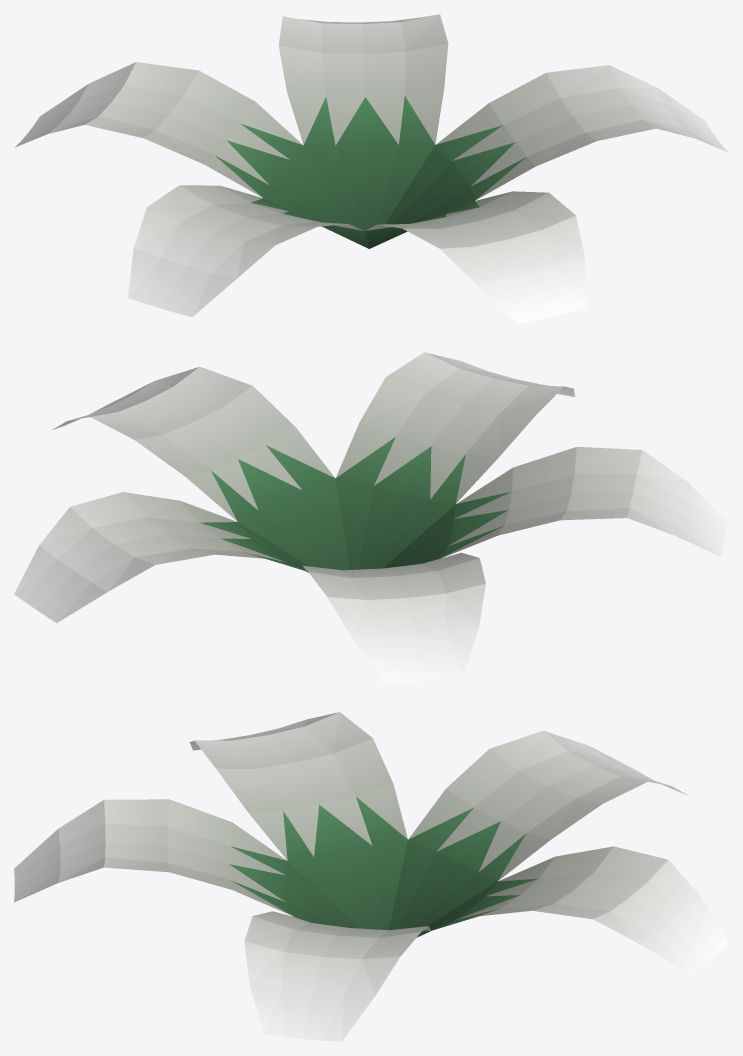
File: SnowBush.fbx
The picture shows the model from 3 angles, top to bottom: view 1: azimuth 30°, elevation 25°; view 2: azimuth 150°, elevation 25°; view 3: azimuth 270°, elevation 25°; orthographic projection. The views are drawn at different scales.
Parts seen in each view (by area): view 1: SnowBush; view 2: SnowBush; view 3: SnowBush.
Boxes of the visible parts, box(x1,y1,x2,y2) form: SnowBush: box(15, 14, 728, 323); SnowBush: box(14, 352, 728, 683); SnowBush: box(14, 712, 728, 1041).
Bounding box in the file's own units: 343 × 62.59 × 339.
